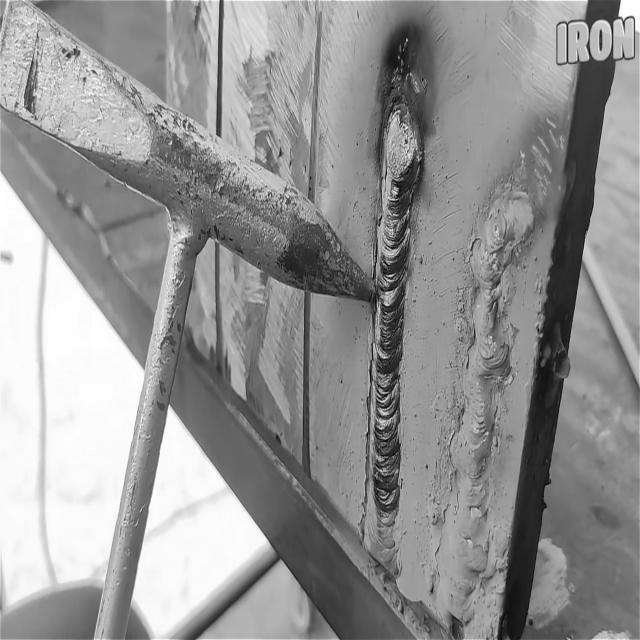Bad Weld: (433, 186, 530, 604)
Good Weld: (368, 120, 403, 553)
